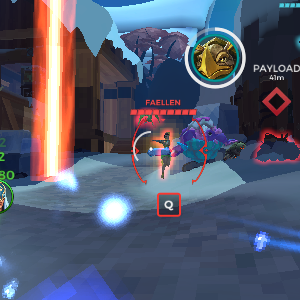model: (154, 127, 180, 185)
